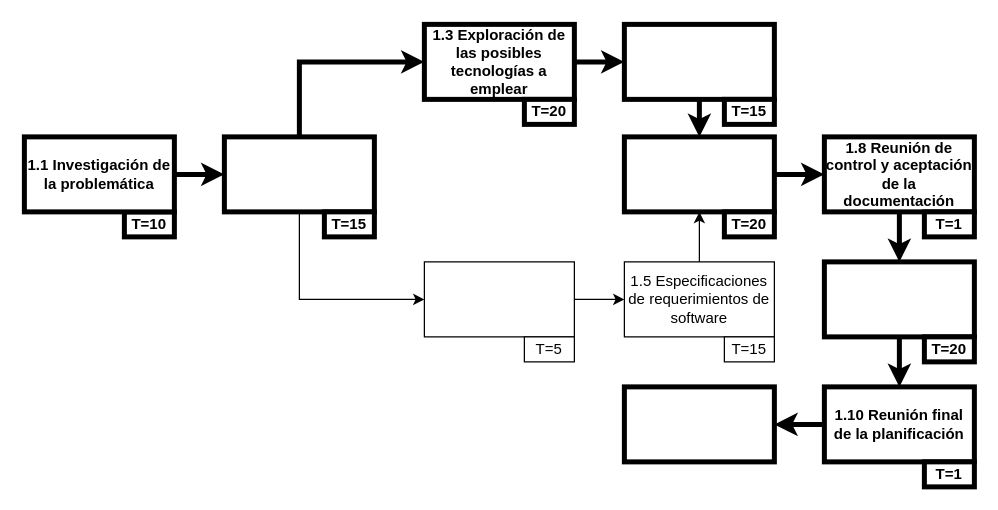
The diagram is 998 pixels wide and 510 high, and some of its shapes have lost their labels. The shapes that lost their labels are listed below. From the top down, each one's centre as x and y in pixels, then its label:
the point at 698,61: 1.6 Elección de tecnologías e informe de justificación
the point at 298,174: 1.2 Relevamiento de las necesidades del cliente
the point at 698,174: 1.7 Confección de un documento de planificación del proyecto
the point at 498,299: 1.4 Investigación sobre el nivel de acceso posible al DUT
the point at 898,299: 1.9 Creación del plan de pruebas y validación
the point at 698,424: PLANIFICACIÓN FINALIZADA
